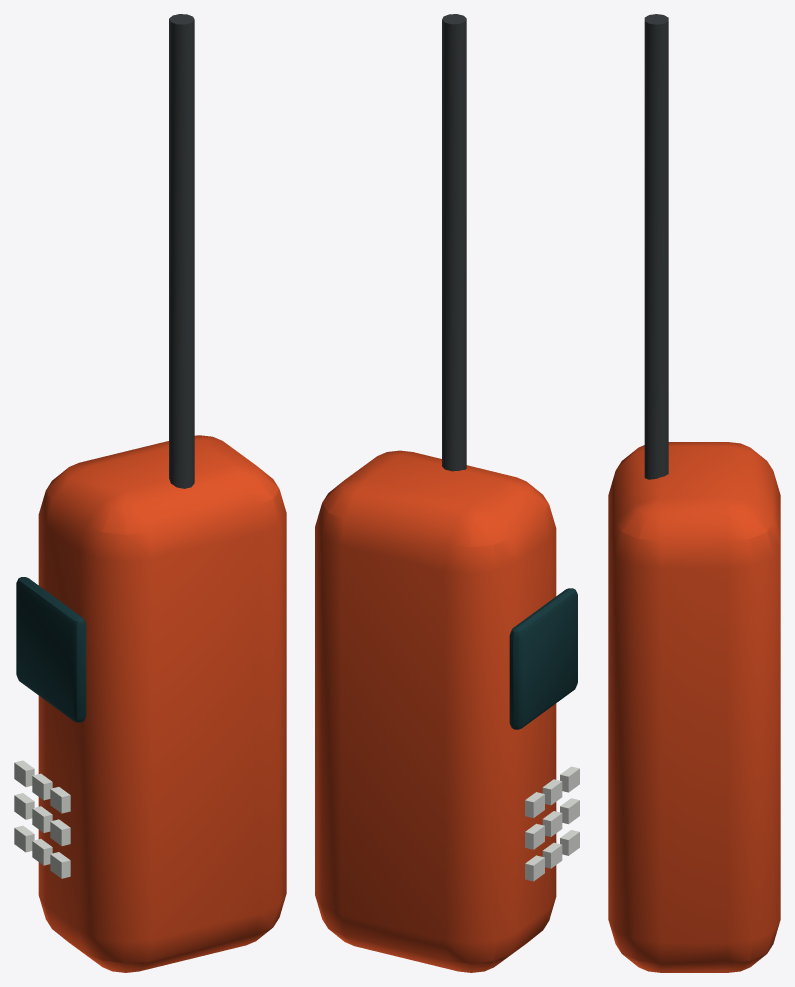
File: cabin_radio_right.glb
The picture shows the model from 3 angles, left to right: view 1: azimuth 30°, elevation 25°; view 2: azimuth 150°, elevation 25°; view 3: azimuth 270°, elevation 25°; orthographic projection. The views are drawn at different scales.
Visible parts, largest first — view 1: cabin_radio_right; view 2: cabin_radio_right; view 3: cabin_radio_right.
Part boxes in pixels (bbox=[...]): cabin_radio_right: bbox=[14, 14, 286, 972]; cabin_radio_right: bbox=[315, 14, 579, 972]; cabin_radio_right: bbox=[608, 14, 780, 972].
Bounding box in the file's own units: 0.101 × 0.4025 × 0.068.
